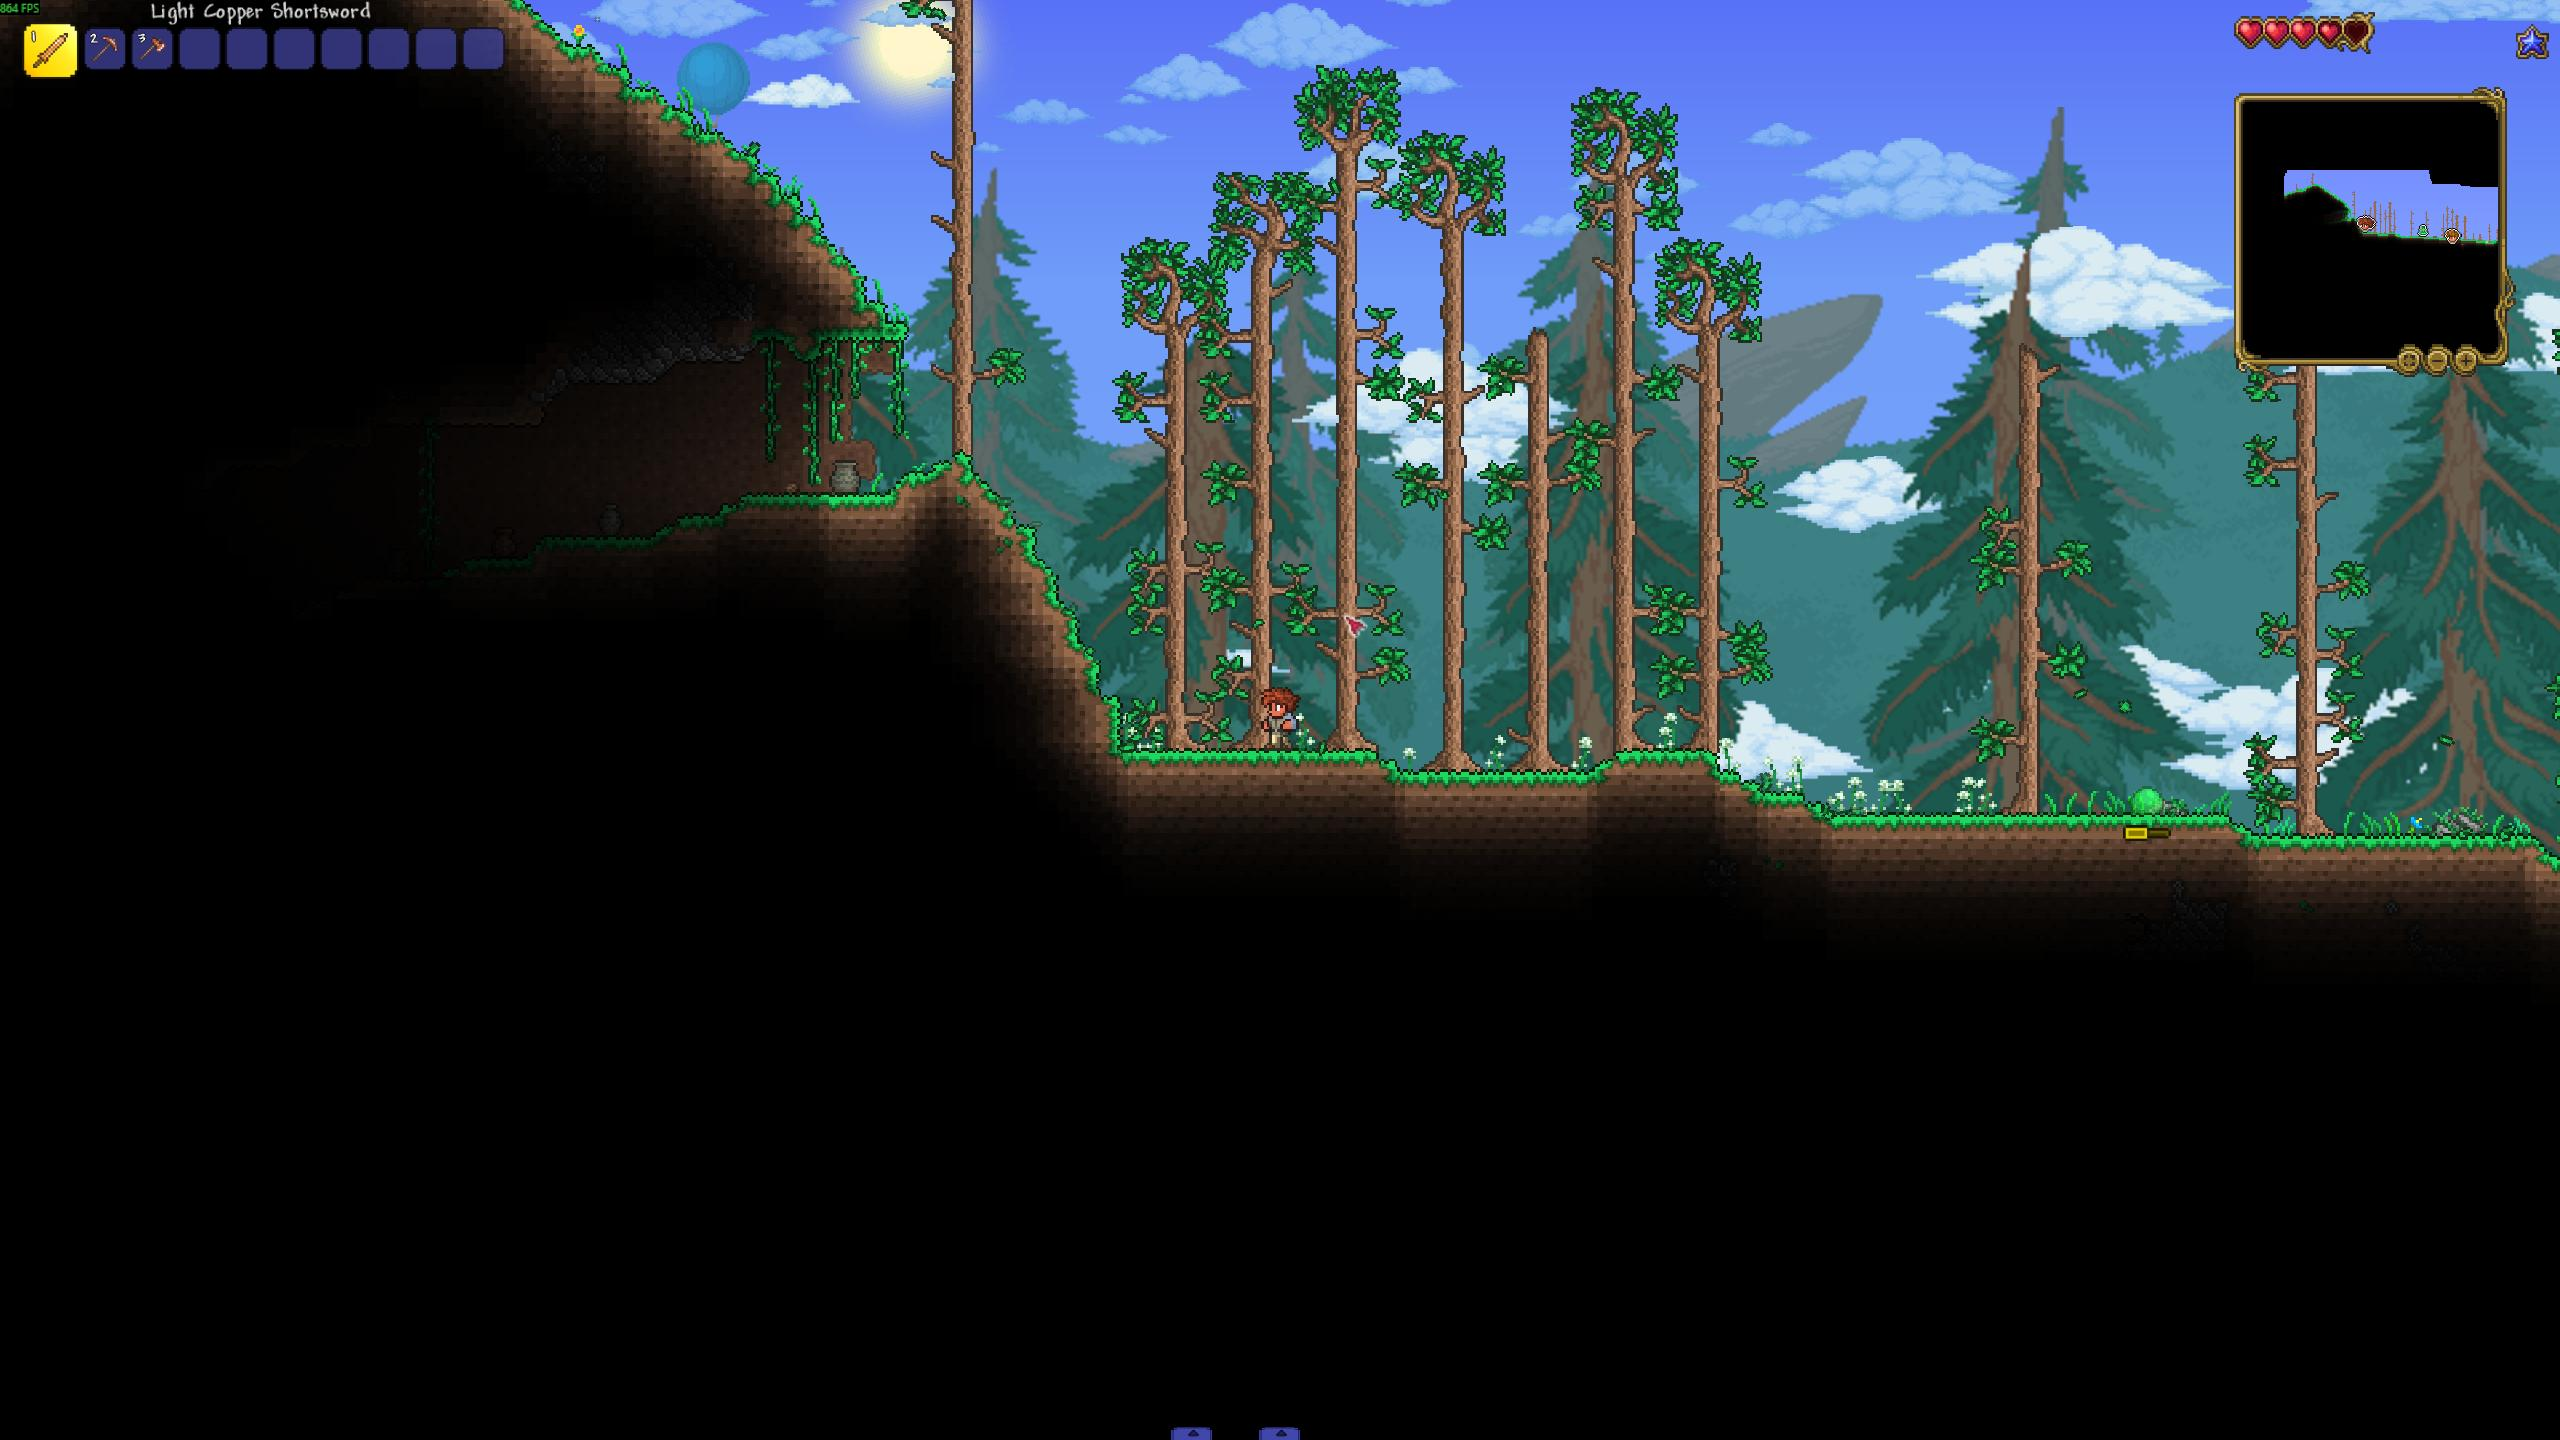Green Slime: (2127, 784, 2166, 818)
